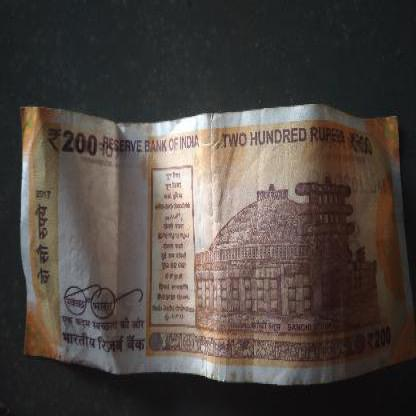New200Back: (21, 107, 406, 370)
